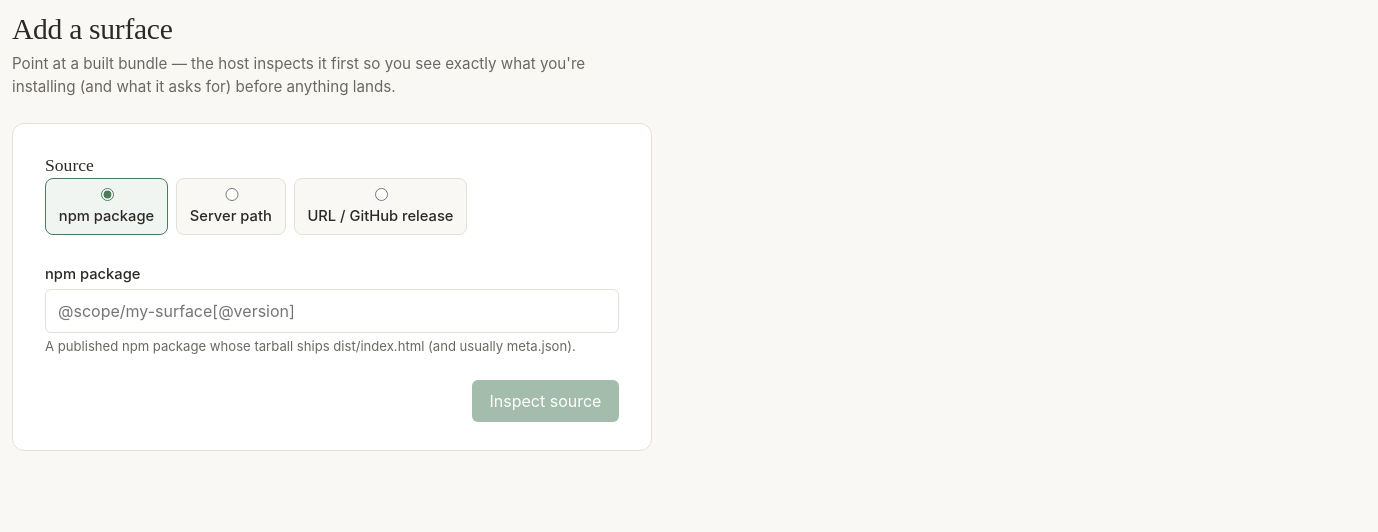
Add — inspect step › inspect error surfaces inline
Click the radio button labelled "Server path".
click(232, 195)  # box [195,188,269,202]
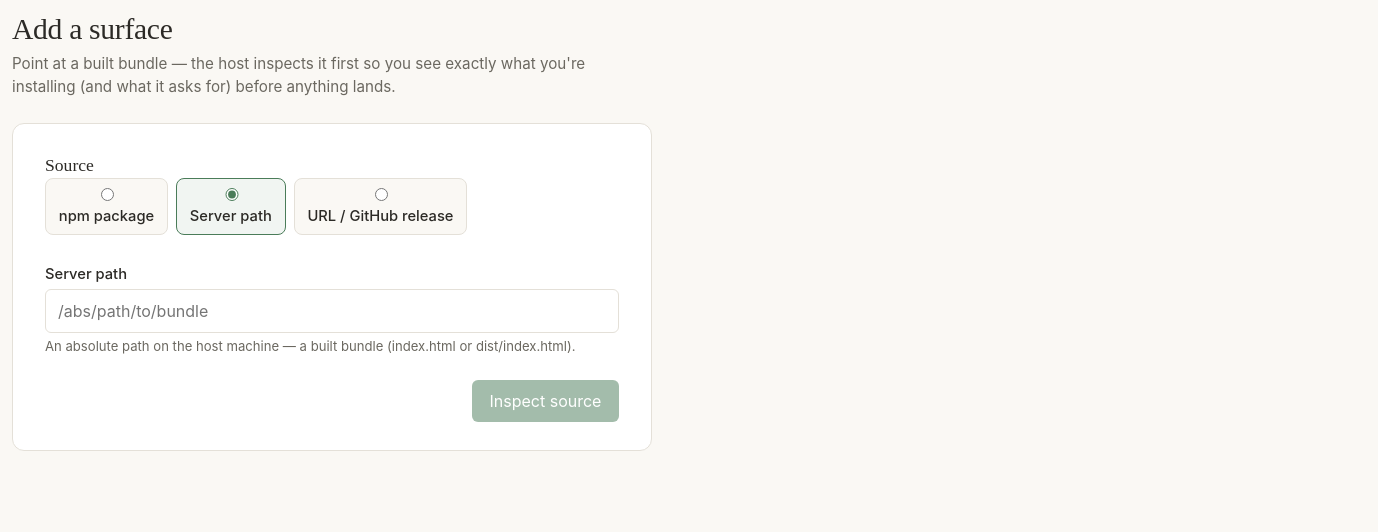
Type "/tmp/nope" into the field with placeholder "/abs/path/to/bundle".
click(332, 311); type("/tmp/nope")  # box [45,289,619,333]
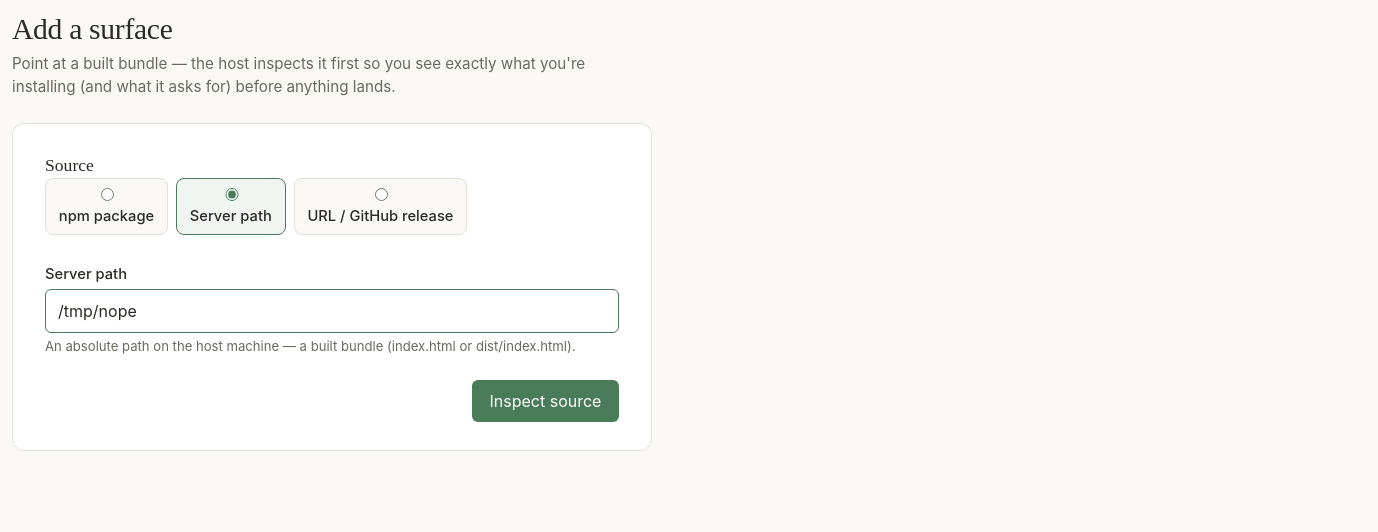
Click the button "Inspect source".
click(545, 401)  # box [472,380,619,422]
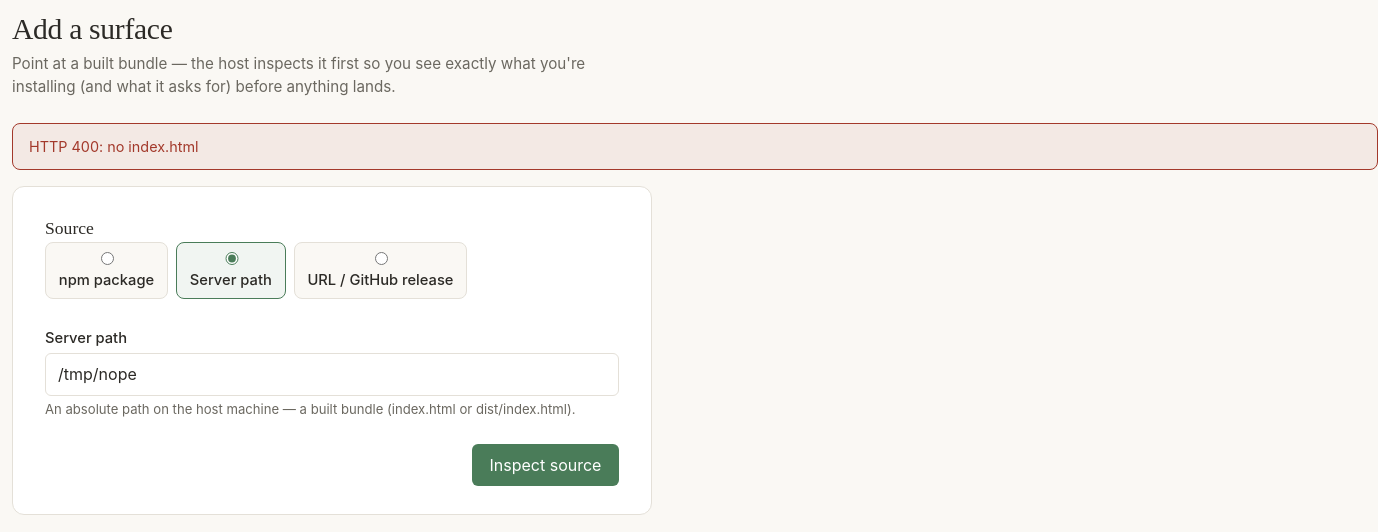
expect the message shows "HTTP 400": met, box [29,138,198,155]
